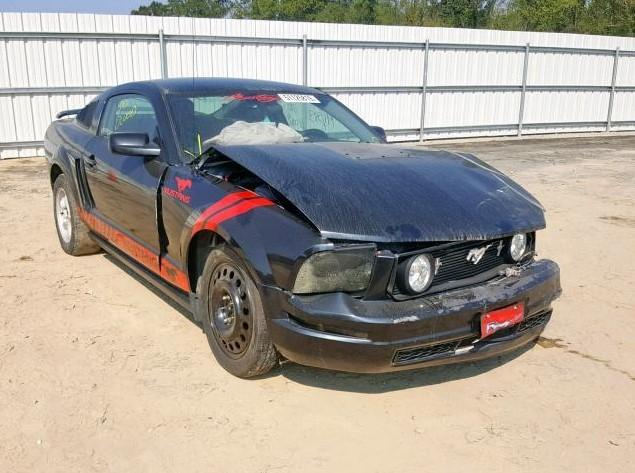Back-wheel: (53, 174, 100, 255)
Back-window: (77, 102, 98, 128)
Fender: (159, 166, 333, 296)
Front-bumper: (255, 256, 562, 373)
Front-door: (83, 90, 173, 277), (95, 93, 163, 158)
Front-wheel: (198, 244, 276, 379)
Front-window: (99, 94, 162, 147)
Grille: (432, 237, 511, 286)
Headlight: (294, 248, 376, 294), (409, 255, 430, 291), (511, 234, 526, 260)
Hood: (212, 143, 545, 242)
License-plate: (483, 302, 524, 338)
Mirror: (110, 134, 161, 157), (371, 127, 386, 141)
Quarter-panel: (43, 121, 95, 230)
Rocker-panel: (87, 230, 200, 322)
Roof: (115, 78, 322, 93)
Trunk: (51, 104, 85, 121)
Windshield: (167, 91, 385, 160)
